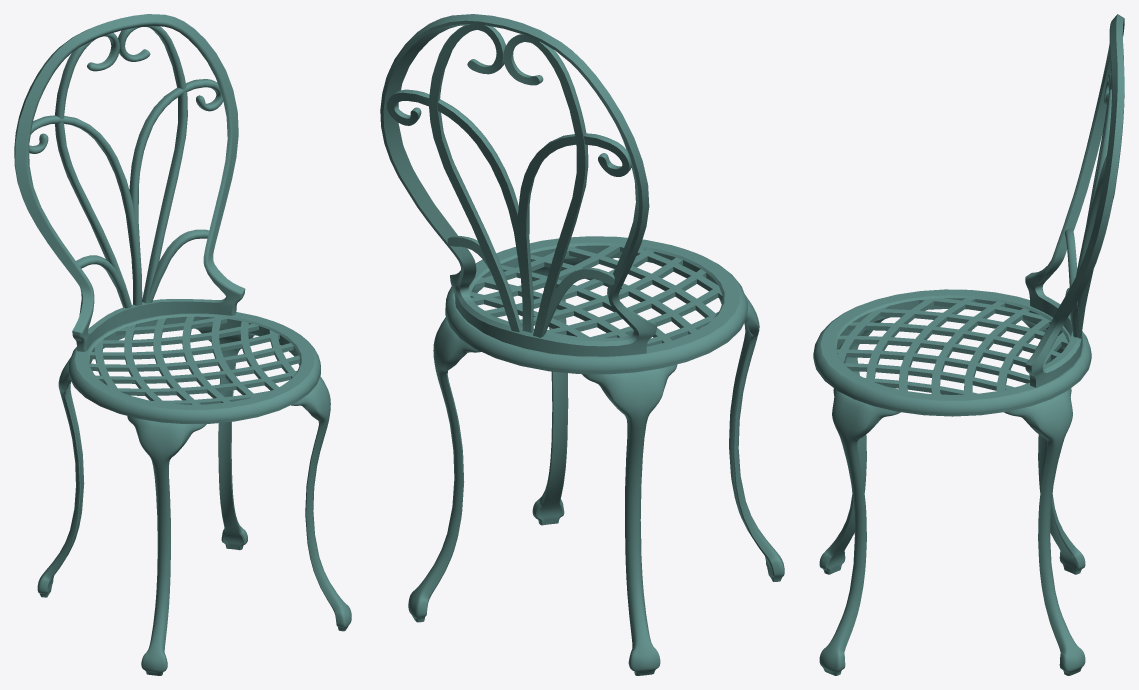
File: 699_ガーデンチェア.glb
The picture shows the model from 3 angles, left to right: view 1: azimuth 30°, elevation 25°; view 2: azimuth 150°, elevation 25°; view 3: azimuth 270°, elevation 25°; orthographic projection. The views are drawn at different scales.
Parts seen in each view (by area): view 1: Body; view 2: Body; view 3: Body.
Part boxes in pixels (x1=…): Body: x1=14, y1=14, x2=351, y2=675; Body: x1=380, y1=14, x2=784, y2=675; Body: x1=813, y1=14, x2=1124, y2=675.
Size of the model in its own units: 0.407 by 0.9413 by 0.4485.
